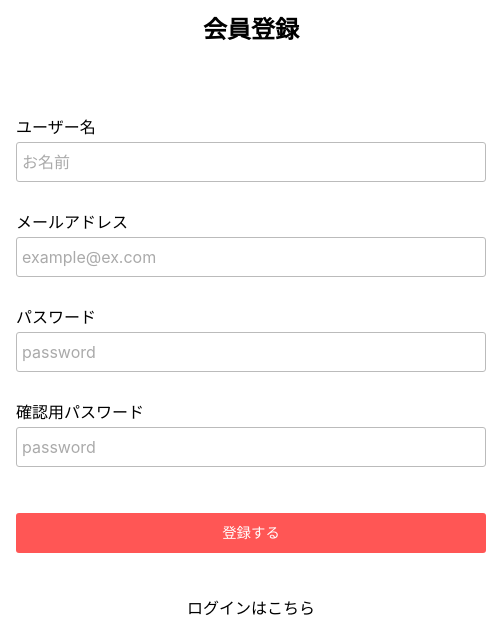
Test case: 1. 会員登録機能 › 1-2. メールアドレスが入力されていない場合、バリデーションメッセージが表示される
In the field with test id "name": (251, 162) [16,142,486,182], type "テストユーザー"
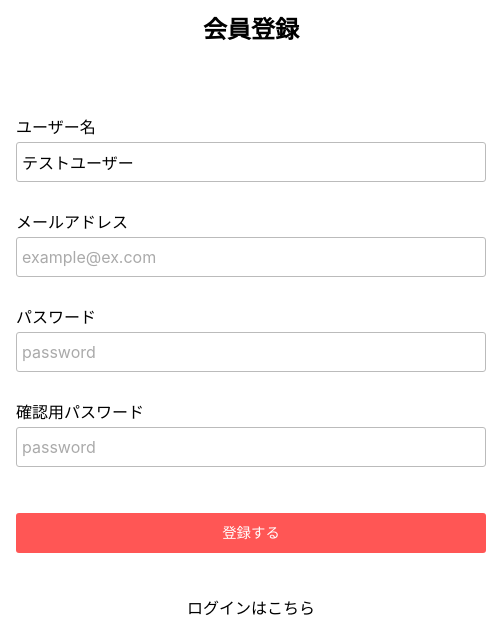
In the password field with test id "password": (251, 352) [16,332,486,372], type "password123"
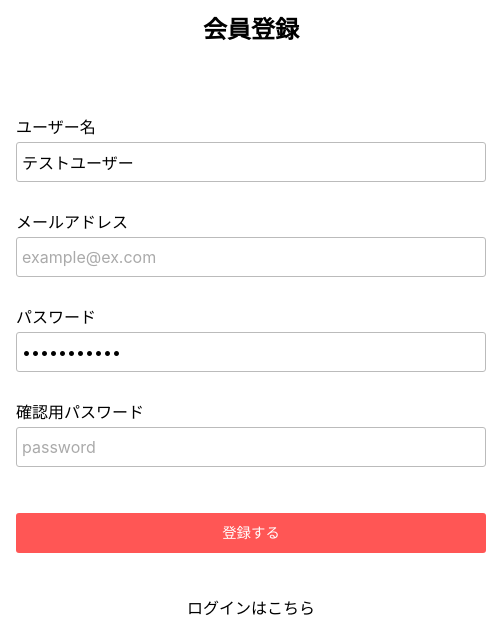
In the password field with test id "confirm_password": (251, 447) [16,427,486,467], type "password123"
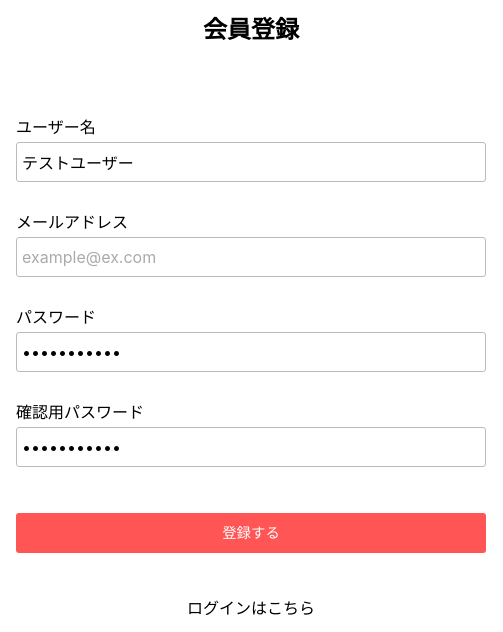
Click the button with test id "submit": (251, 533) [16,513,486,553]
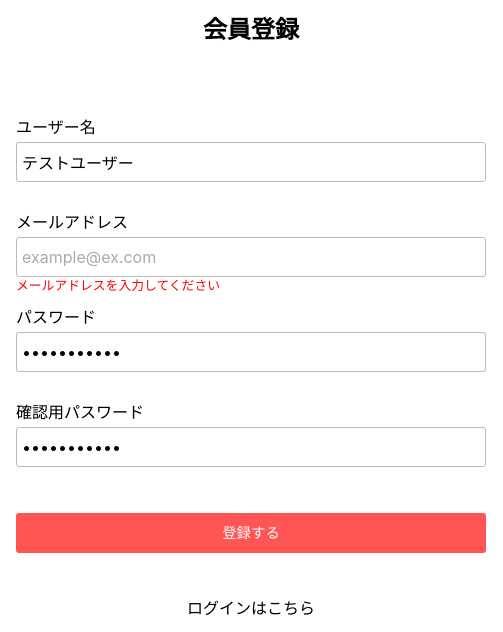
Expected: the text with test id "error-email" reads "メールアドレスを入力してください", [16,278,220,293]
